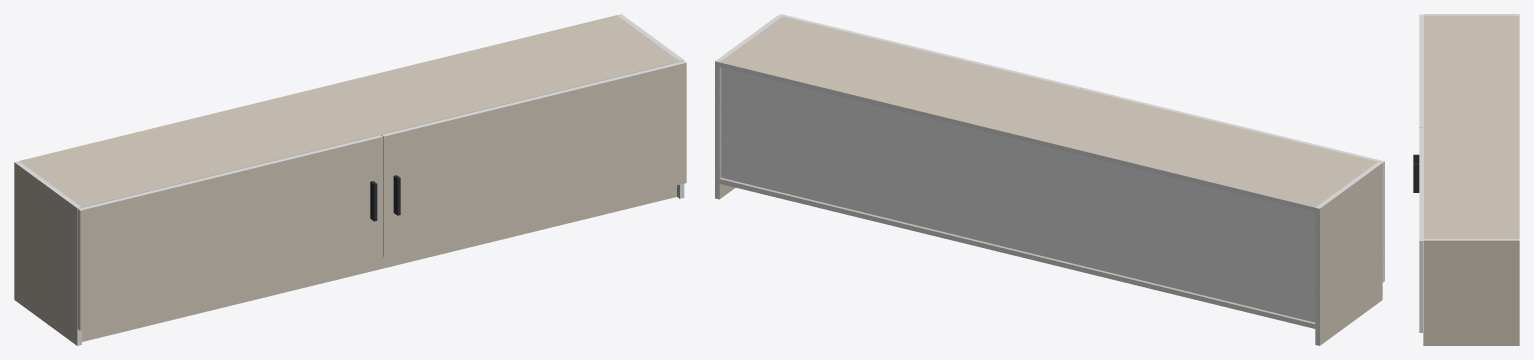
File: CAL-MED-long.glb
3 renders of one model, left to right at view 1: azimuth 30°, elevation 25°; view 2: azimuth 150°, elevation 25°; view 3: azimuth 270°, elevation 25°, orthographic. The views are drawn at different scales.
Parts seen in each view (by area): view 1: top:pbr, door-l:pbr, door-r:pbr, side-l:pbr, plinth:pbr, door-l:sheet:eyJtIjoibWRmIiwic2lkZSI6ImVkZ2UtbG9uZyIsInNlZWQ, door-r:sheet:eyJtIjoibWRmIiwic2lkZSI6ImVkZ2UtbG9uZyIsInNlZWQ, top:sheet:eyJtIjoibWRmIiwic2lkZSI6ImVkZ2UtbG9uZyIsInNlZWQiOj, pull; view 2: back:sheet:eyJtIjoibWRmIiwic2lkZSI6ImZhY2UiLCJzZWVkIjoxLCJ0a, top:pbr, side-l:pbr, top:sheet:eyJtIjoibWRmIiwic2lkZSI6ImVkZ2UtbG9uZyIsInNlZWQiOj, bottom:sheet:eyJtIjoibWRmIiwic2lkZSI6ImVkZ2UtbG9uZyIsInNlZWQ, bottom:pbr, door-l:sheet:eyJtIjoibWRmIiwic2lkZSI6ImVkZ2UtbG9uZyIsInNlZWQ, door-r:sheet:eyJtIjoibWRmIiwic2lkZSI6ImVkZ2UtbG9uZyIsInNlZWQ, side-l:sheet:eyJtIjoibWRmIiwic2lkZSI6ImVkZ2UtbG9uZyIsInNlZWQ, side-r:sheet:eyJtIjoibWRmIiwic2lkZSI6ImVkZ2UtbG9uZyIsInNlZWQ; view 3: top:pbr, side-r:pbr, door-l:sheet:eyJtIjoibWRmIiwic2lkZSI6ImVkZ2UtbG9uZyIsInNlZWQ, door-r:sheet:eyJtIjoibWRmIiwic2lkZSI6ImVkZ2UtbG9uZyIsInNlZWQ, door-r:sheet:eyJtIjoibWRmIiwic2lkZSI6ImVkZ2UtZW5kIiwic2VlZCI, pull, side-l:sheet:eyJtIjoibWRmIiwic2lkZSI6ImVkZ2UtZW5kIiwic2VlZCI, side-r:sheet:eyJtIjoibWRmIiwic2lkZSI6ImVkZ2UtZW5kIiwic2VlZCI.
Boxes of the visible parts, bbox=[...] form: top:pbr: bbox=[19, 15, 679, 206]; door-l:pbr: bbox=[80, 137, 383, 330]; door-r:pbr: bbox=[384, 63, 686, 256]; side-l:pbr: bbox=[14, 162, 77, 345]; plinth:pbr: bbox=[82, 185, 676, 341]; door-l:sheet:eyJtIjoibWRmIiwic2lkZSI6ImVkZ2UtbG9uZyIsInNlZWQ: bbox=[78, 135, 382, 210]; door-r:sheet:eyJtIjoibWRmIiwic2lkZSI6ImVkZ2UtbG9uZyIsInNlZWQ: bbox=[381, 61, 686, 136]; top:sheet:eyJtIjoibWRmIiwic2lkZSI6ImVkZ2UtbG9uZyIsInNlZWQiOj: bbox=[82, 61, 679, 207]; pull: bbox=[370, 175, 400, 221]; back:sheet:eyJtIjoibWRmIiwic2lkZSI6ImZhY2UiLCJzZWVkIjoxLCJ0a: bbox=[721, 67, 1315, 322]; top:pbr: bbox=[720, 16, 1377, 207]; side-l:pbr: bbox=[1320, 163, 1382, 345]; top:sheet:eyJtIjoibWRmIiwic2lkZSI6ImVkZ2UtbG9uZyIsInNlZWQiOj: bbox=[719, 62, 1315, 212]; bottom:sheet:eyJtIjoibWRmIiwic2lkZSI6ImVkZ2UtbG9uZyIsInNlZWQ: bbox=[719, 179, 1315, 328]; bottom:pbr: bbox=[720, 177, 1315, 323]; door-l:sheet:eyJtIjoibWRmIiwic2lkZSI6ImVkZ2UtbG9uZyIsInNlZWQ: bbox=[1081, 88, 1384, 162]; door-r:sheet:eyJtIjoibWRmIiwic2lkZSI6ImVkZ2UtbG9uZyIsInNlZWQ: bbox=[779, 14, 1081, 88]; side-l:sheet:eyJtIjoibWRmIiwic2lkZSI6ImVkZ2UtbG9uZyIsInNlZWQ: bbox=[1315, 208, 1319, 345]; side-r:sheet:eyJtIjoibWRmIiwic2lkZSI6ImVkZ2UtbG9uZyIsInNlZWQ: bbox=[715, 61, 719, 199]; top:pbr: bbox=[1423, 15, 1519, 238]; side-r:pbr: bbox=[1423, 240, 1519, 345]; door-l:sheet:eyJtIjoibWRmIiwic2lkZSI6ImVkZ2UtbG9uZyIsInNlZWQ: bbox=[1419, 14, 1422, 127]; door-r:sheet:eyJtIjoibWRmIiwic2lkZSI6ImVkZ2UtbG9uZyIsInNlZWQ: bbox=[1419, 128, 1422, 240]; door-r:sheet:eyJtIjoibWRmIiwic2lkZSI6ImVkZ2UtZW5kIiwic2VlZCI: bbox=[1419, 241, 1422, 332]; pull: bbox=[1413, 154, 1419, 192]; side-l:sheet:eyJtIjoibWRmIiwic2lkZSI6ImVkZ2UtZW5kIiwic2VlZCI: bbox=[1423, 14, 1519, 15]; side-r:sheet:eyJtIjoibWRmIiwic2lkZSI6ImVkZ2UtZW5kIiwic2VlZCI: bbox=[1423, 239, 1519, 240].
Size of the model in its own units: 2.4 by 0.52 by 0.4769.
34 materials, 23 textured.
